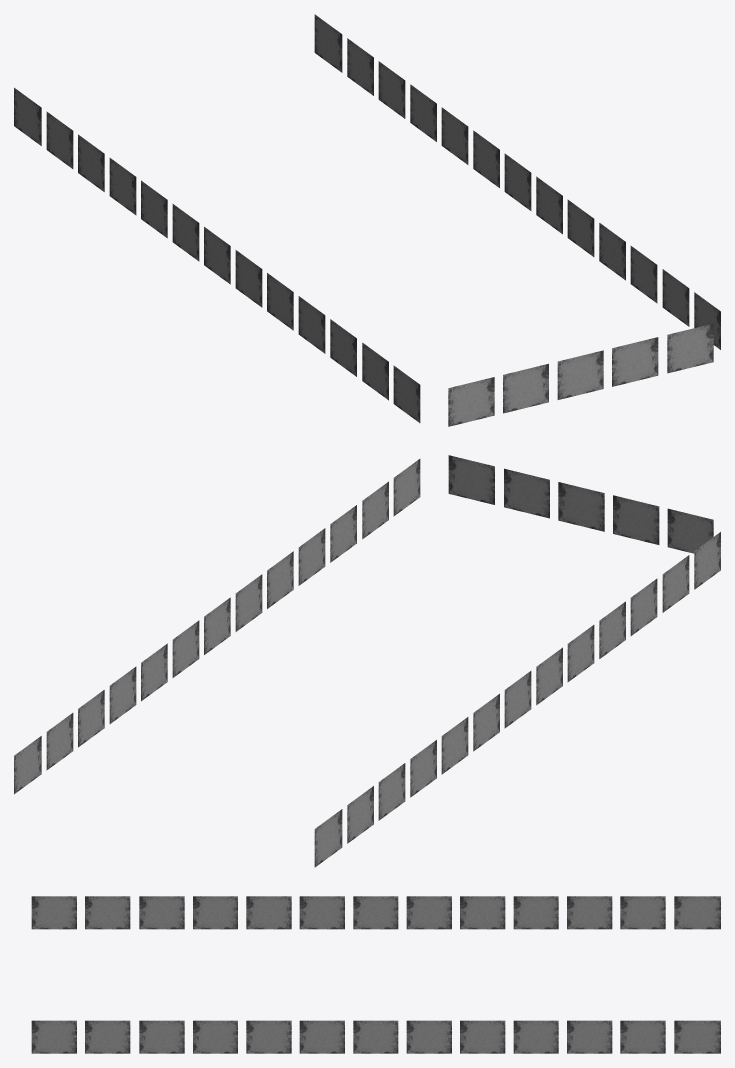
File: Rail_Hall_Glas.fbx
3 views of the same model, one above another, from view 1: azimuth 30°, elevation 25°; view 2: azimuth 150°, elevation 25°; view 3: azimuth 270°, elevation 25° (orthographic). The views are drawn at different scales.
Parts seen in each view (by area): view 1: Cube_005; view 2: Cube_005; view 3: Cube_005.
Part boxes in pixels (x1,y1,x2,y2): Cube_005: (14,14,720,426); Cube_005: (14,455,720,867); Cube_005: (31,896,720,1053).
Bounding box in the file's own units: 24.79 × 3.05 × 59.53.
